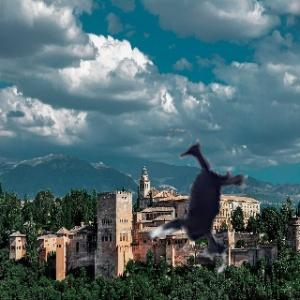drone: (112, 120, 283, 291)
